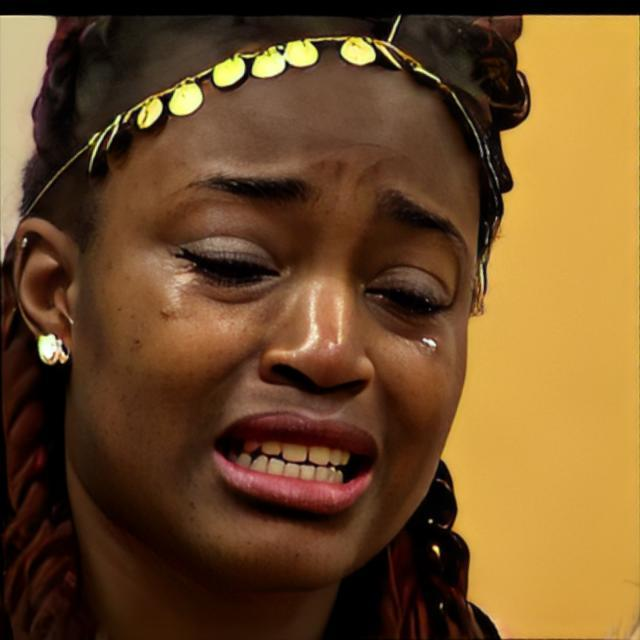sad: (82, 52, 476, 590)
